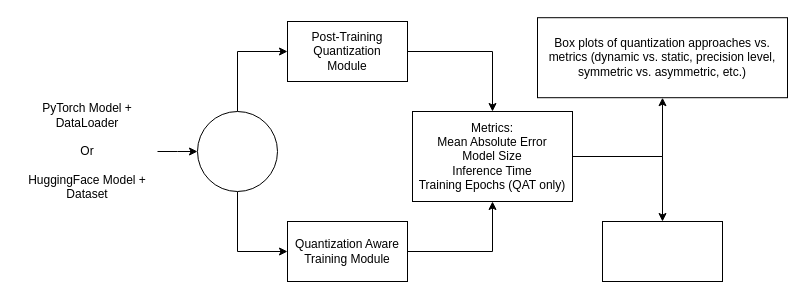
This 805x299 diagram has some shape labels left out. The centre of each missing label's shape, as x and y in pixels:
"Model Loader" goes at point 237,151.
"Pareto plots of other metrics vs. MAE" goes at point 662,251.
